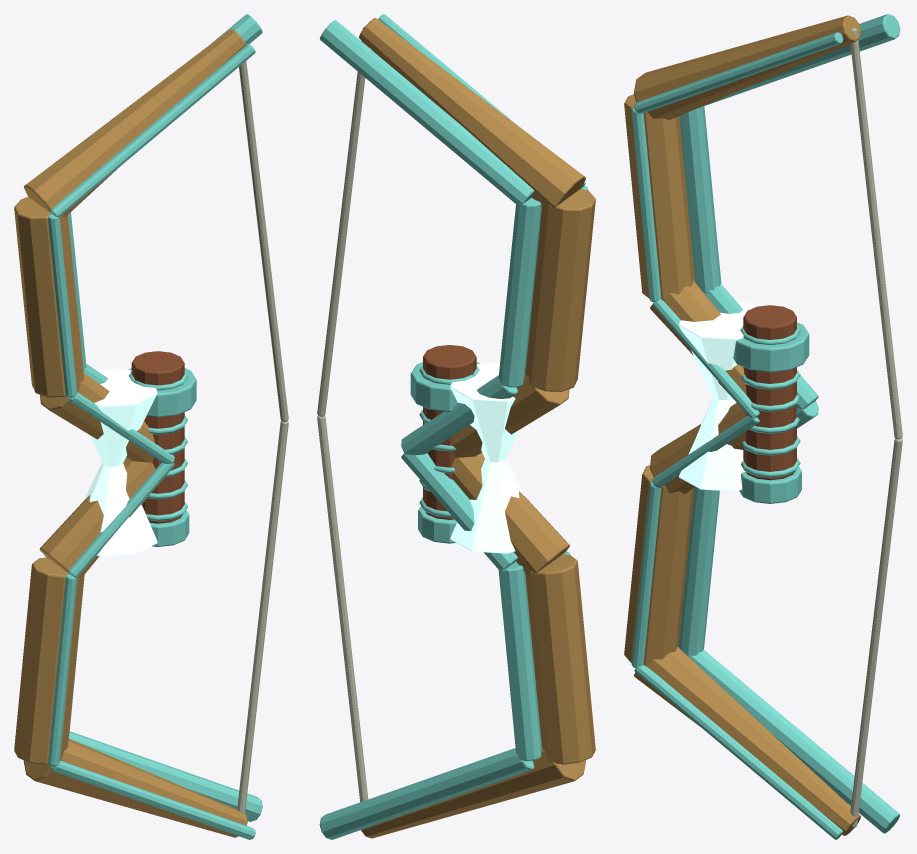
The model's file is item_030.glb.
3 views of the same model, side by side, from view 1: azimuth 30°, elevation 25°; view 2: azimuth 150°, elevation 25°; view 3: azimuth 330°, elevation 25° (orthographic).
Parts seen in each view (by area): view 1: Item_030_hourglass_longbow; view 2: Item_030_hourglass_longbow; view 3: Item_030_hourglass_longbow.
Boxes of the visible parts, left/top/right/bottom form: Item_030_hourglass_longbow: left=14, top=14, right=288, bottom=839; Item_030_hourglass_longbow: left=317, top=14, right=595, bottom=839; Item_030_hourglass_longbow: left=624, top=14, right=902, bottom=839.
Bounding box in the file's own units: 0.5979 × 1.7 × 0.1772.
